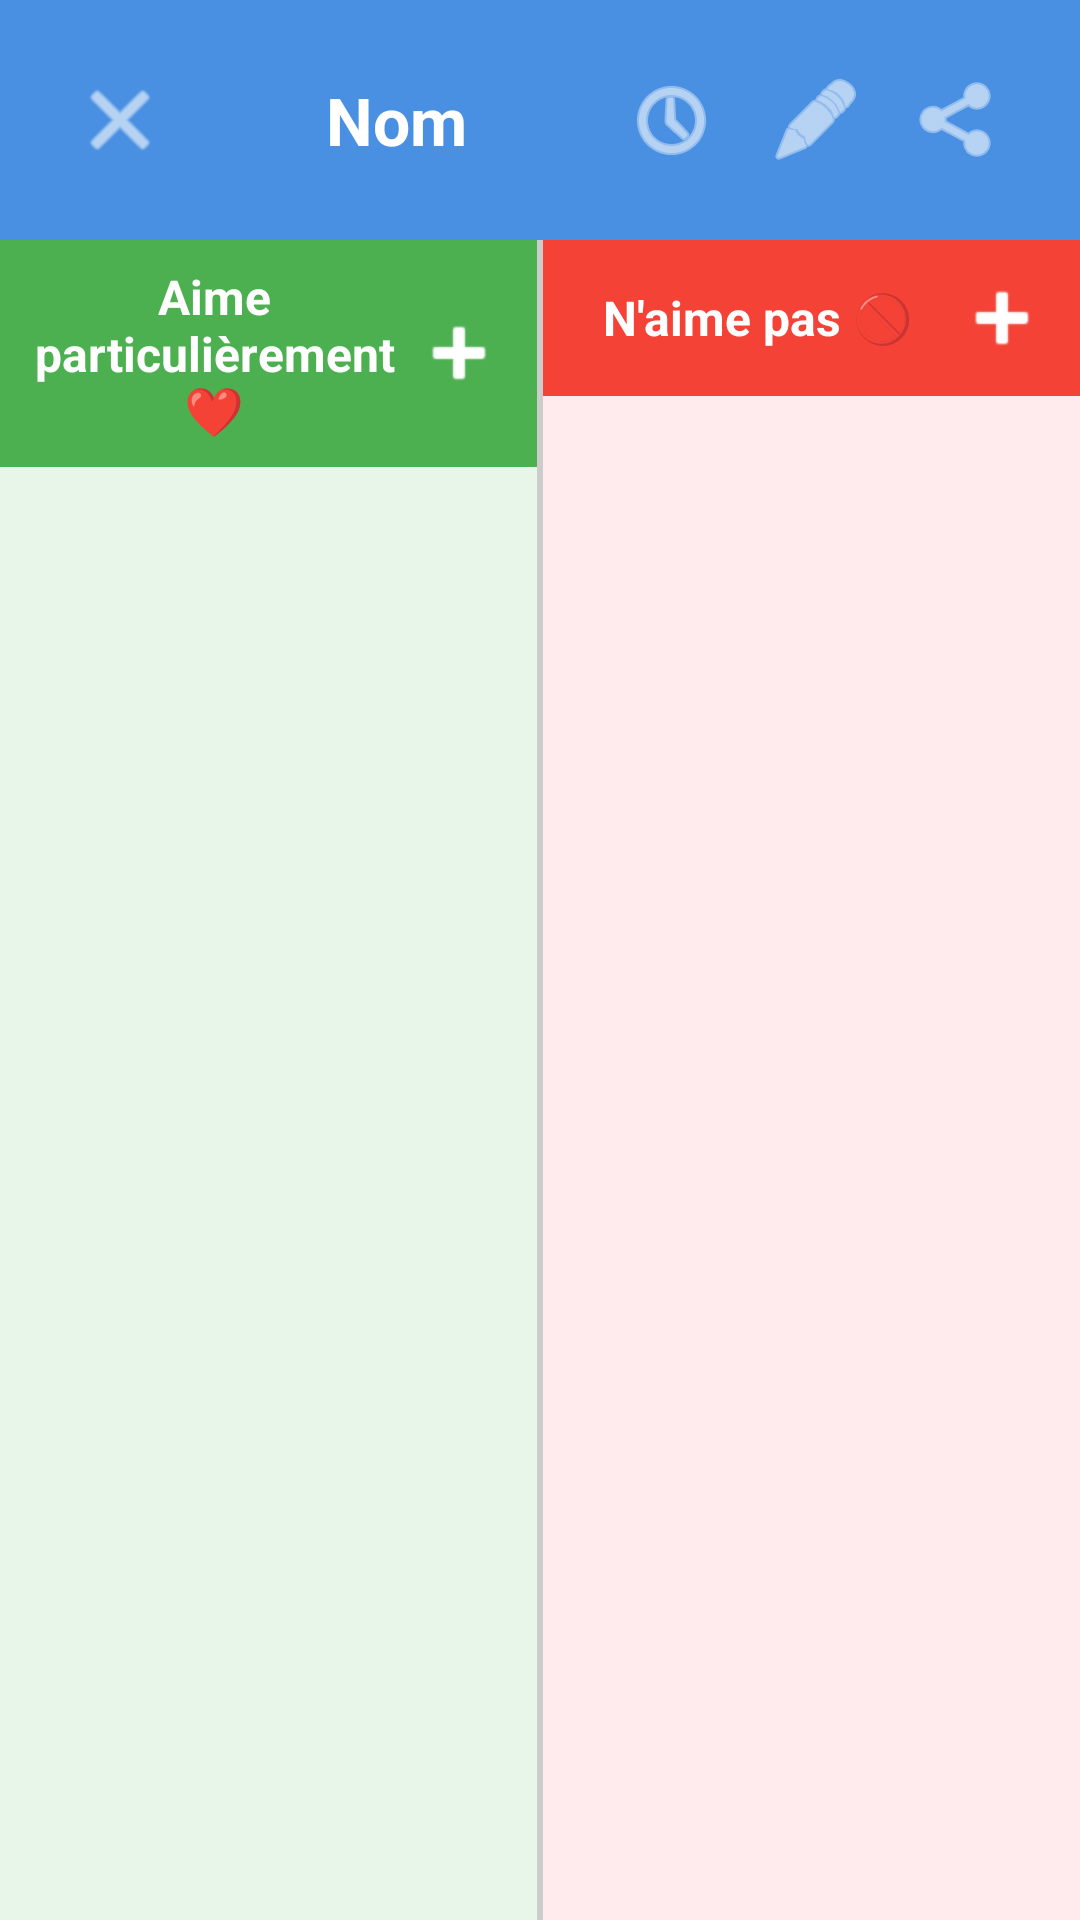

Icon click points for this 1080px x 1920px phone screenshot, format point (x, y):
Ajouter: point (1002, 318), point (459, 353)
Historique des repas: point (671, 120)
Inviter à remplir ses goûts: point (955, 119)
Modifier la personne: point (815, 119)
Retour: point (120, 120)
